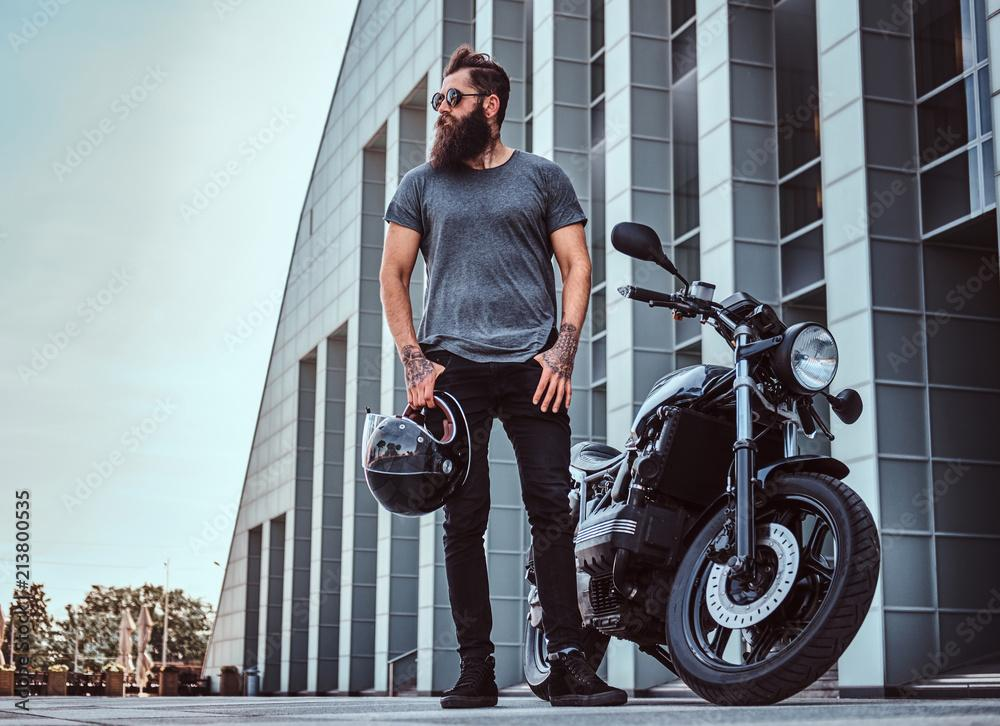helmet: (361, 388, 472, 519)
nohelmet: (429, 42, 512, 173)
